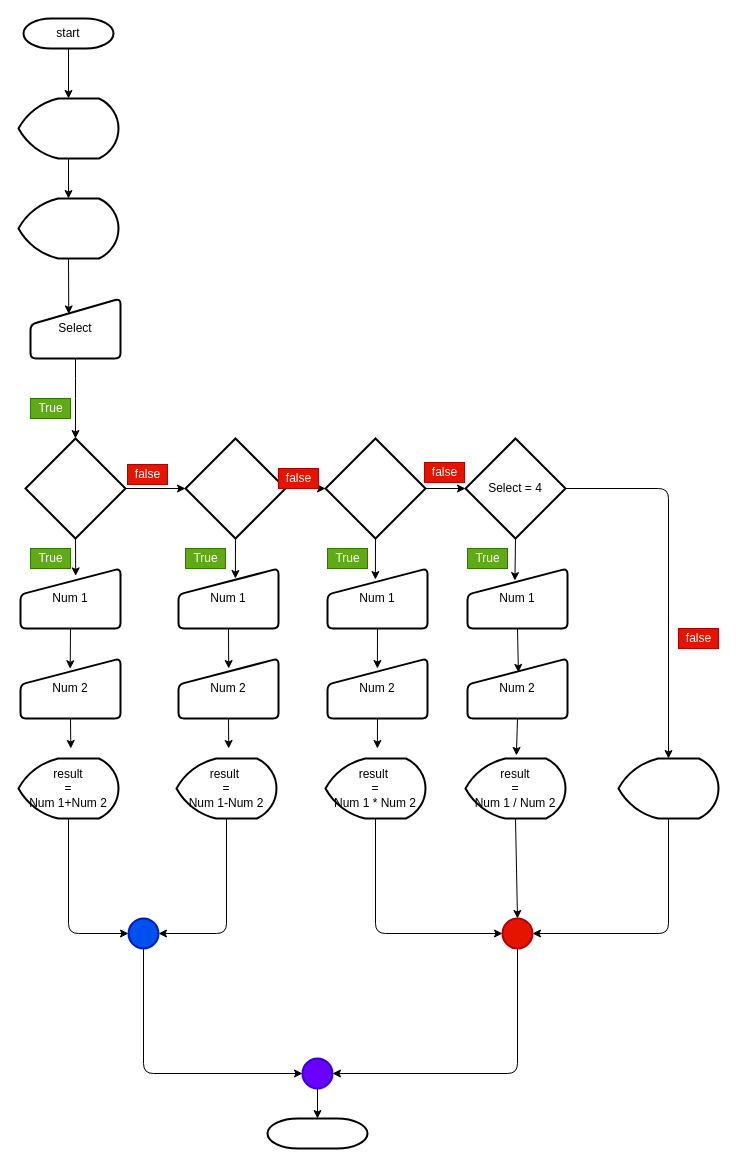
This 736x1166 diagram has some shape labels left out. The centre of each missing label's shape, as x and y in pixels:
"Add Subtract Muktiply Divide" goes at (x=68, y=228).
"End" goes at (x=317, y=1133).
"operation error" goes at (x=668, y=788).
"Please select operation" goes at (x=68, y=128).
"Select = 1" goes at (x=75, y=488).
"Select = 2" goes at (x=235, y=488).
"Select = 3" goes at (x=375, y=488).
